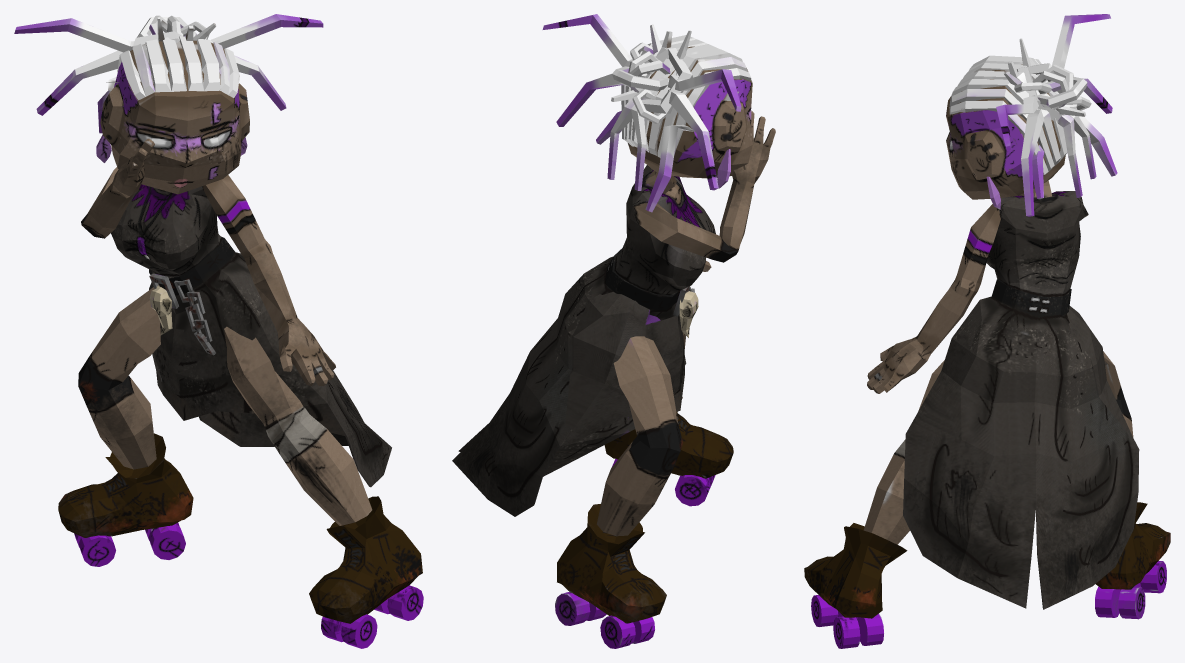
File: bruja_000066.obj
The picture shows the model from 3 angles, left to right: view 1: azimuth 30°, elevation 25°; view 2: azimuth 150°, elevation 25°; view 3: azimuth 270°, elevation 25°; orthographic projection. The views are drawn at different scales.
Visible parts, largest first — view 1: Bruja_Plane.001; view 2: Bruja_Plane.001; view 3: Bruja_Plane.001.
Part boxes in pixels (x1,y1,x2,y2): Bruja_Plane.001: [14, 14, 423, 648]; Bruja_Plane.001: [452, 14, 775, 648]; Bruja_Plane.001: [804, 14, 1170, 648].
Size of the model in its own units: 9.19 by 15.42 by 9.25.
